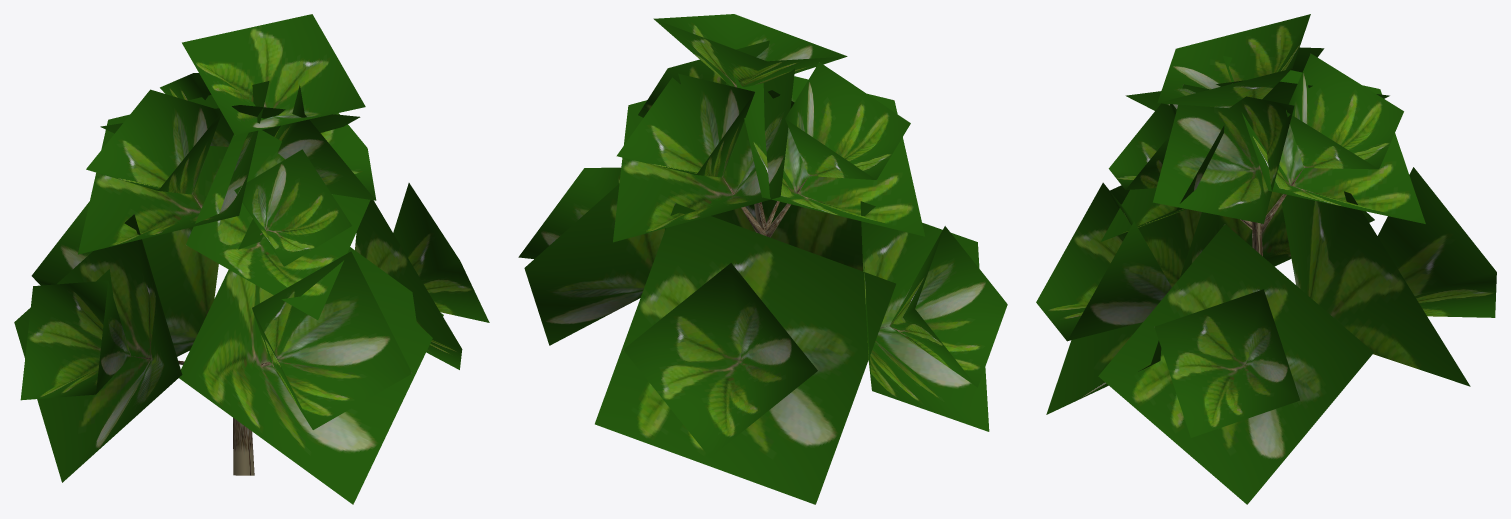
Rendered from leaf_palmbush_a3_l1.fbx.
3 renders of one model, left to right at view 1: azimuth 30°, elevation 25°; view 2: azimuth 150°, elevation 25°; view 3: azimuth 270°, elevation 25°, orthographic.
Visible parts, largest first — view 1: mesh_node; view 2: mesh_node; view 3: mesh_node.
Boxes of the visible parts, box(x1,y1,x2,y2) form: mesh_node: box(14, 14, 489, 504); mesh_node: box(518, 14, 1007, 504); mesh_node: box(1036, 14, 1496, 504).
Size of the model in its own units: 2.05 by 1.93 by 1.85.
2 materials, 2 textured.
